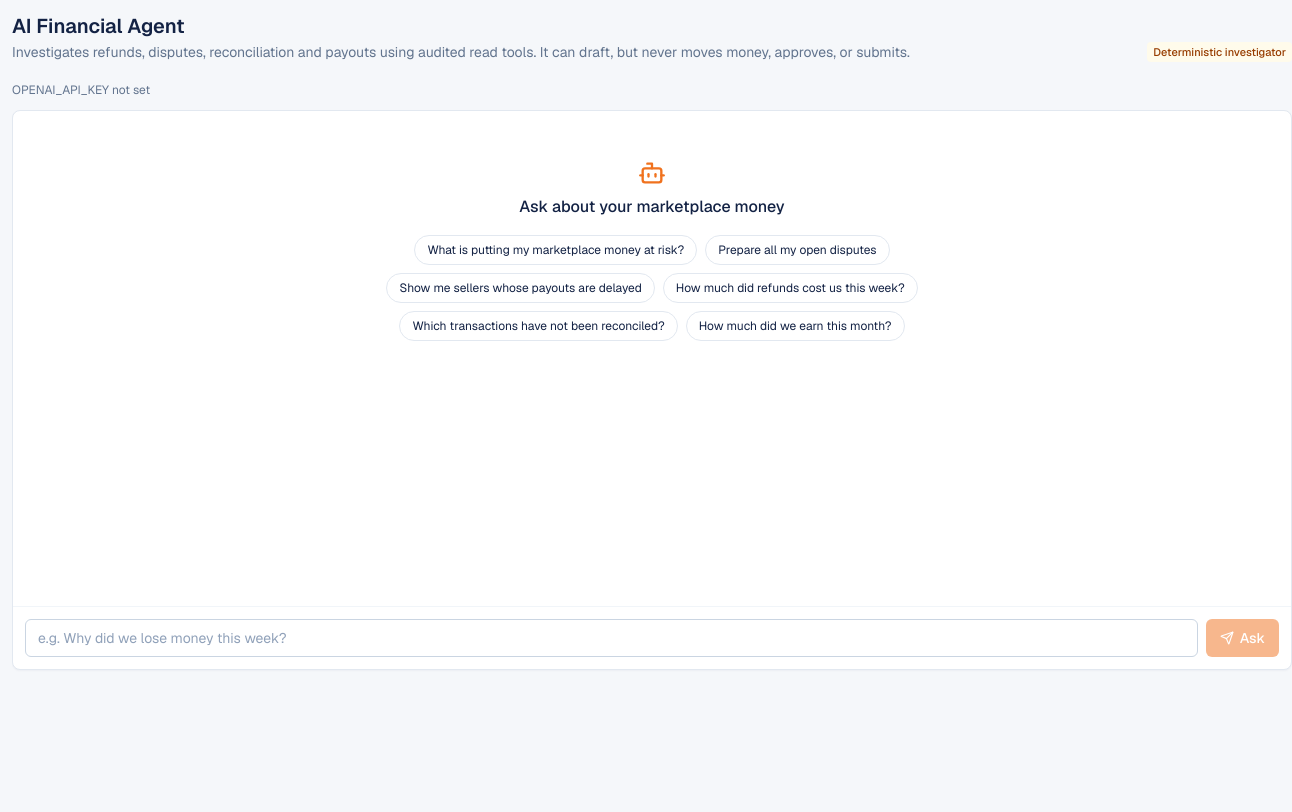
Test: AI conversation › sends a question, renders findings with transaction references and the tool trace
The image size is (1292, 812).
Expected: the text "Deterministic investigator" is shown, [1147, 42, 1291, 62]
In the field named "Ask the agent": (611,638) [25, 619, 1198, 657], type "What is putting my marketplace money at risk?"
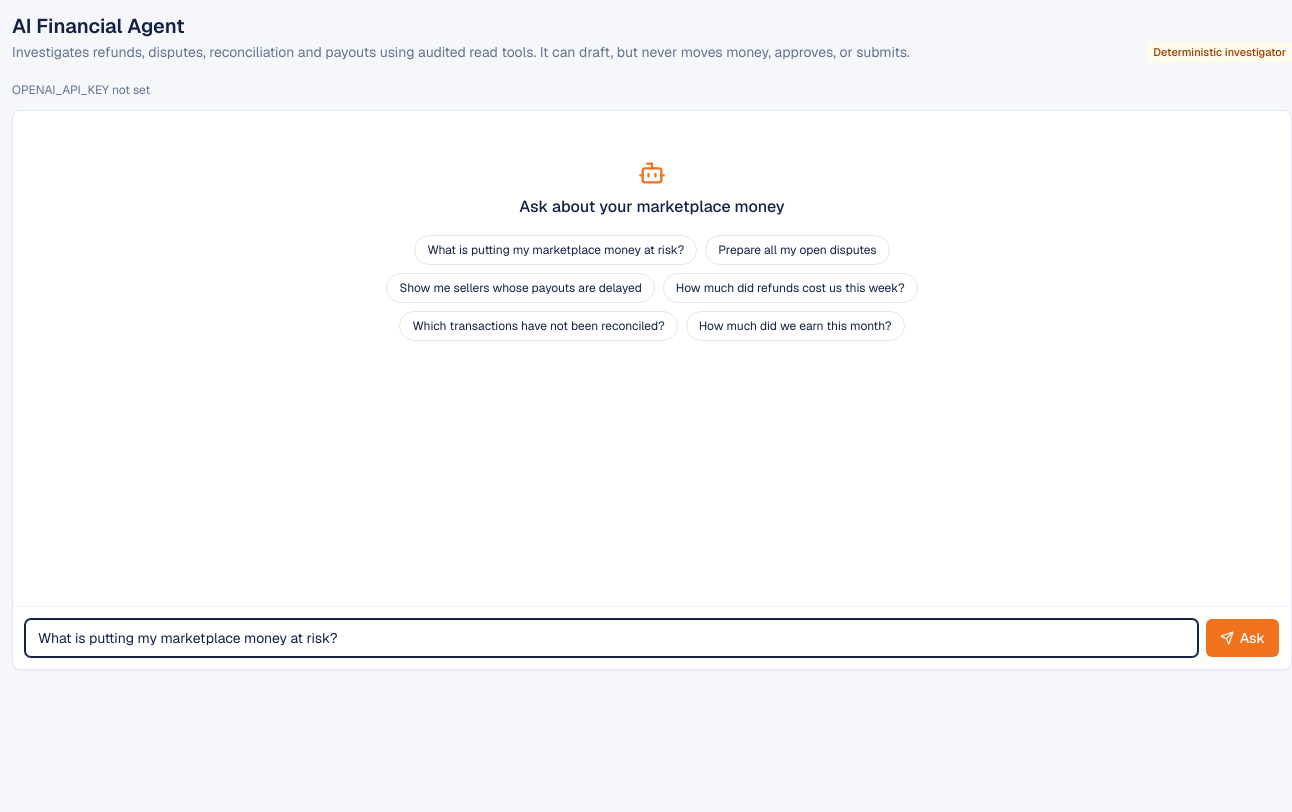
Click the button "Ask": (1242,638) [1206, 619, 1279, 657]
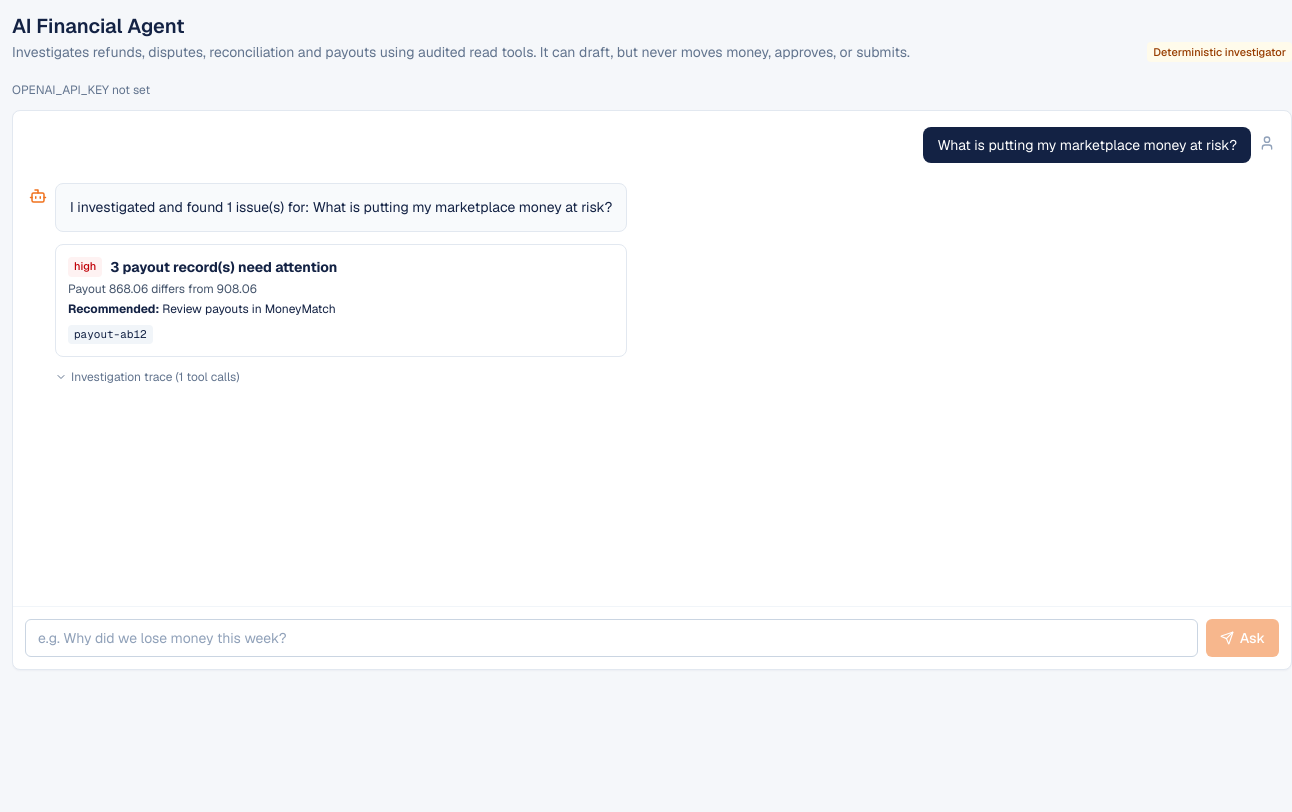
Result: the text "I investigated and found" is shown at [70, 198, 612, 216]
Result: the text "3 payout record(s) need attention" is shown at [110, 257, 337, 277]
